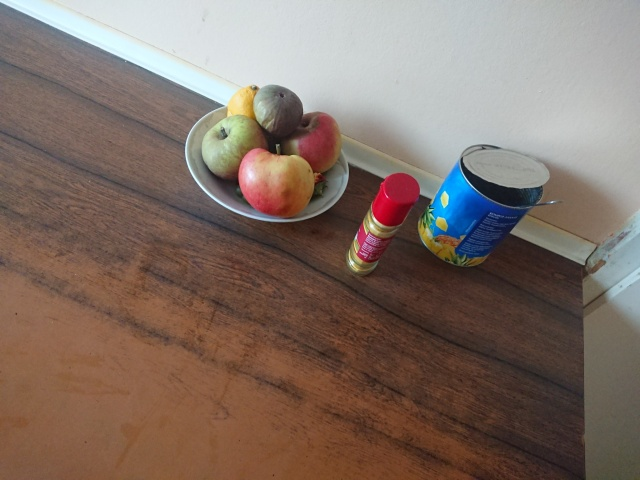Kotanyi Curry Spices Mix 70g: (343, 171, 422, 279)
